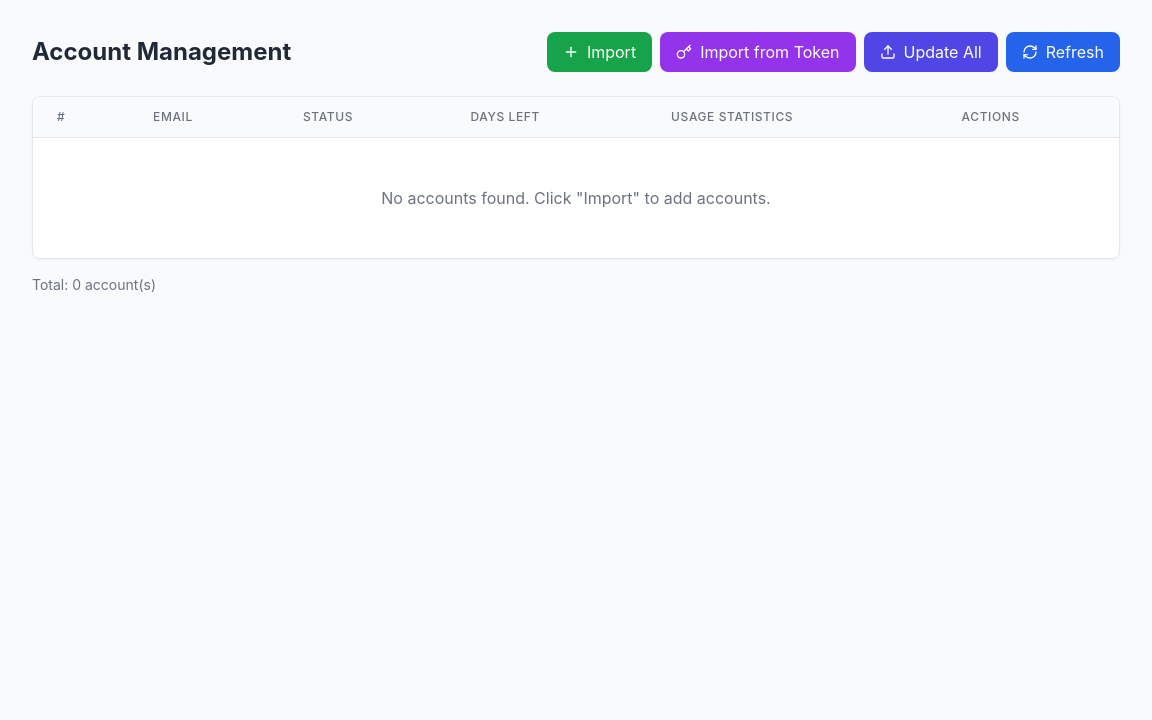
Test: AccountPage Component › should toggle import modal
Click the button "Import" at (600, 52), box x1=547 y1=32 x2=652 y2=72
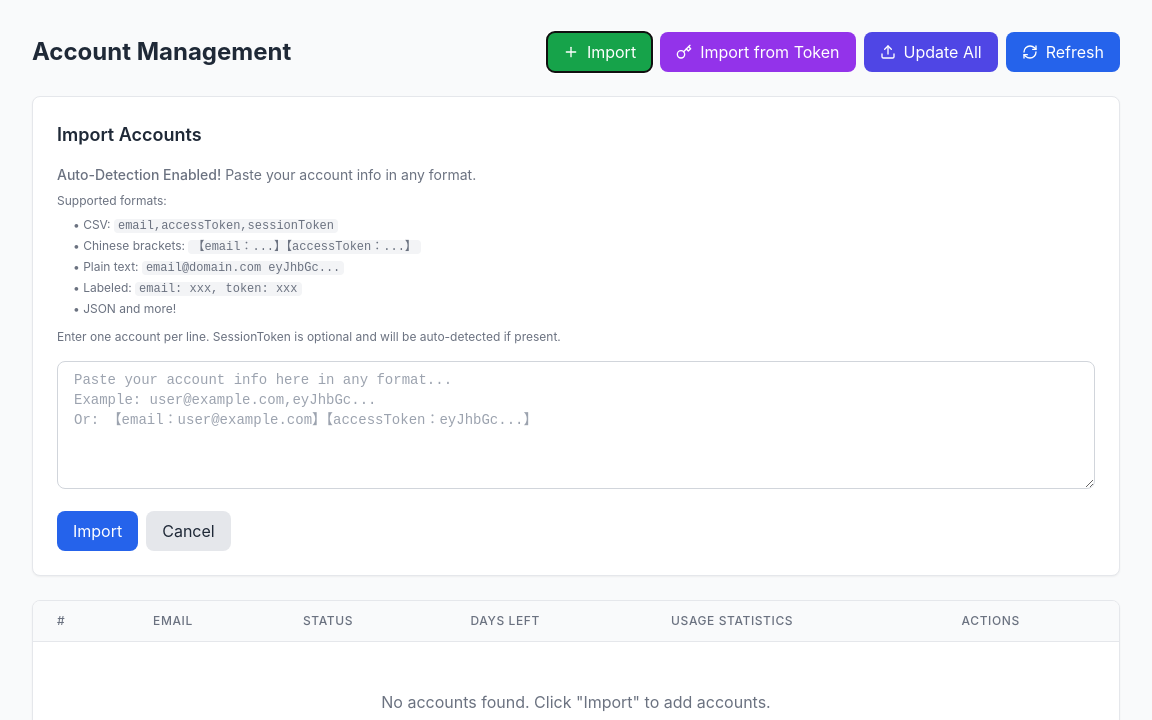
Result: the heading "Import Accounts" is shown at x1=57 y1=124 x2=202 y2=145
